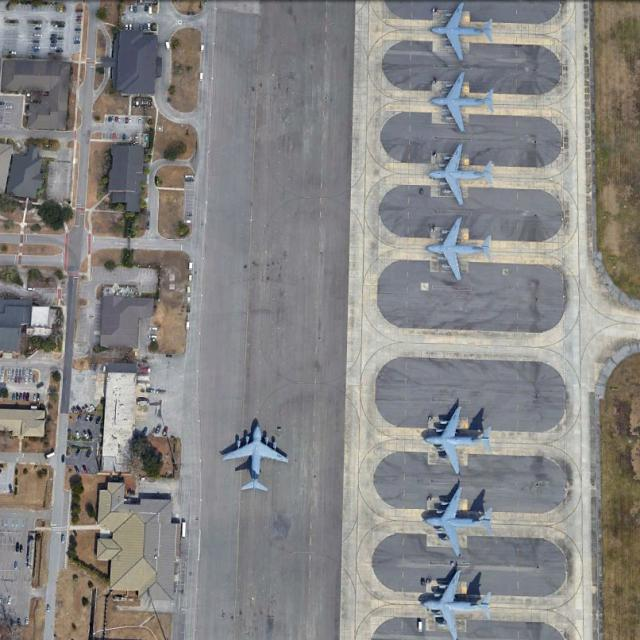fighter jet: (406, 566, 498, 631), (219, 416, 291, 498), (423, 401, 496, 467), (424, 483, 496, 549), (427, 224, 498, 284), (432, 148, 498, 206), (427, 7, 498, 59), (427, 82, 499, 130)
